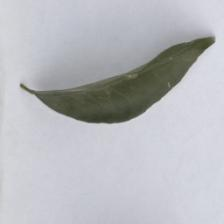healthy: (17, 34, 218, 128)
